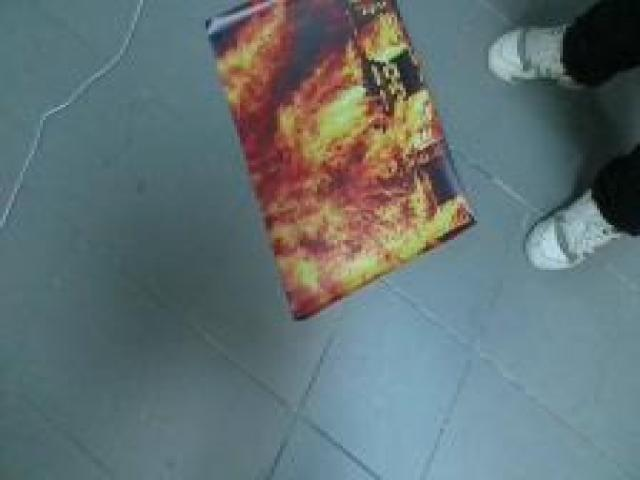fire-poster: (200, 0, 483, 324)
